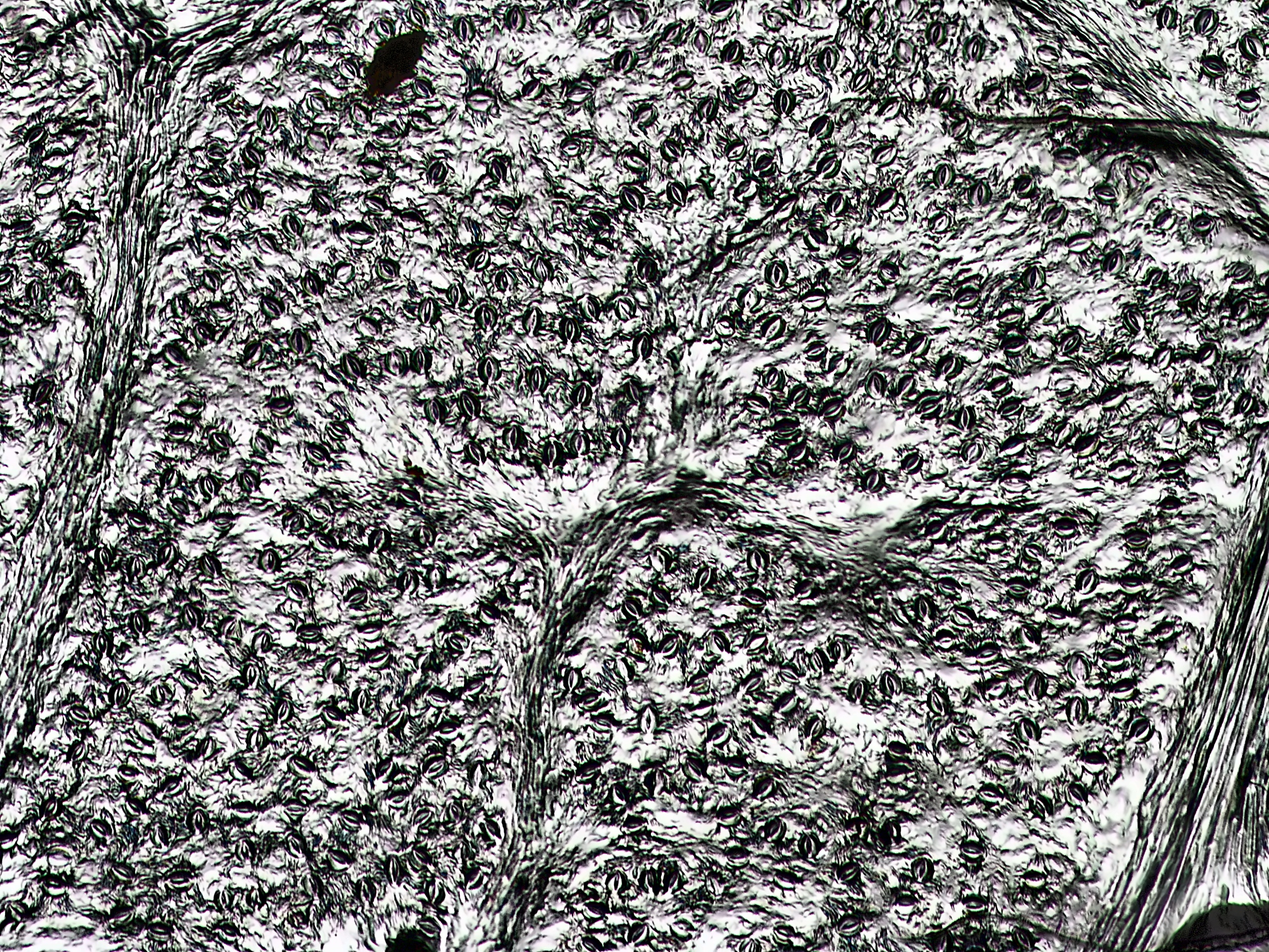stomata: (1067, 651, 1093, 683), (1024, 669, 1048, 701), (648, 543, 672, 575), (1125, 717, 1154, 742), (287, 754, 316, 779), (1106, 458, 1137, 481), (466, 760, 489, 791), (760, 315, 787, 341), (936, 354, 963, 380), (1238, 35, 1266, 60), (867, 318, 892, 346), (970, 509, 1000, 532), (771, 418, 801, 441), (626, 632, 651, 659), (474, 304, 498, 332), (477, 356, 501, 384), (765, 260, 789, 288), (424, 562, 447, 591), (301, 872, 324, 901), (466, 90, 496, 112), (418, 296, 440, 326), (963, 34, 985, 64), (355, 877, 377, 907), (999, 435, 1030, 456), (998, 473, 1029, 494), (619, 185, 644, 211), (816, 153, 842, 178), (1074, 568, 1099, 594), (424, 396, 448, 423), (1195, 9, 1219, 36), (879, 670, 903, 697), (384, 348, 407, 376), (1066, 696, 1089, 724), (643, 768, 666, 796), (1099, 387, 1128, 409), (835, 914, 864, 936), (1000, 333, 1029, 355), (637, 705, 658, 735), (874, 187, 899, 212), (185, 809, 210, 834), (133, 719, 158, 744), (1041, 204, 1067, 228), (774, 194, 798, 220), (736, 286, 762, 310), (669, 917, 695, 941), (399, 208, 426, 231), (304, 444, 331, 467), (541, 440, 564, 467), (1122, 307, 1145, 334), (1073, 434, 1100, 457), (911, 857, 934, 884), (927, 689, 950, 716), (715, 805, 742, 828), (1052, 421, 1075, 448), (423, 755, 450, 778), (319, 706, 346, 729), (289, 327, 311, 355), (1199, 56, 1227, 78), (1081, 752, 1109, 774), (865, 371, 886, 400), (166, 870, 195, 891), (342, 355, 366, 380), (1156, 413, 1181, 437), (1016, 718, 1040, 743), (367, 529, 392, 553), (39, 796, 63, 821), (238, 186, 264, 209), (302, 271, 325, 297), (666, 181, 689, 207), (579, 295, 602, 321), (1046, 606, 1072, 629), (322, 657, 345, 683), (531, 255, 553, 282), (636, 257, 658, 284), (458, 391, 480, 418), (916, 397, 943, 419), (835, 247, 862, 269), (800, 290, 827, 312), (954, 286, 981, 308), (182, 603, 203, 631), (774, 89, 795, 117), (739, 588, 767, 609), (424, 878, 445, 906), (633, 103, 657, 127), (624, 150, 648, 174), (873, 143, 897, 167), (877, 97, 902, 120), (809, 116, 834, 139), (925, 520, 950, 543), (798, 834, 821, 859), (877, 260, 900, 285), (1021, 266, 1046, 289), (906, 334, 931, 357), (820, 398, 845, 421), (656, 635, 681, 658), (410, 346, 432, 372), (156, 543, 178, 569), (925, 21, 947, 47), (1102, 249, 1124, 275), (954, 405, 976, 431), (802, 228, 828, 250), (577, 689, 603, 711), (310, 533, 340, 552), (346, 223, 373, 244), (569, 431, 590, 458), (610, 424, 631, 451), (1119, 574, 1146, 595), (1111, 679, 1138, 700), (977, 785, 1004, 806), (705, 871, 726, 898), (985, 376, 1012, 397), (398, 568, 419, 595), (385, 854, 402, 887), (566, 83, 594, 103), (1066, 233, 1094, 253), (146, 922, 174, 942), (256, 107, 279, 131), (306, 131, 330, 154), (494, 270, 518, 293), (190, 322, 213, 346), (892, 39, 915, 63), (969, 181, 992, 205), (1065, 784, 1088, 808), (1029, 795, 1053, 818), (754, 776, 777, 800), (682, 758, 706, 781), (826, 193, 850, 216), (327, 848, 351, 871), (1123, 530, 1152, 549), (454, 16, 476, 41), (356, 315, 381, 337), (200, 554, 222, 579), (984, 677, 1009, 699), (234, 837, 256, 862), (283, 39, 304, 65), (243, 341, 264, 367), (934, 163, 955, 189), (1020, 623, 1041, 649), (959, 841, 985, 862), (1013, 926, 1034, 952), (808, 649, 829, 675), (952, 724, 978, 745), (747, 548, 768, 574), (773, 869, 799, 890), (613, 655, 634, 681), (159, 775, 185, 796), (410, 111, 437, 131), (961, 896, 988, 916), (563, 665, 583, 692), (351, 686, 371, 713), (213, 923, 240, 943), (633, 332, 652, 360), (1157, 459, 1185, 478), (949, 606, 977, 625), (892, 894, 920, 913), (620, 816, 648, 835), (433, 720, 461, 739), (376, 258, 399, 281), (446, 284, 469, 307), (862, 7, 885, 30), (928, 211, 951, 234), (961, 441, 984, 464), (901, 452, 924, 475), (788, 384, 811, 407), (245, 728, 268, 751), (244, 887, 267, 910), (463, 440, 485, 464), (763, 9, 787, 31), (850, 69, 872, 93), (1237, 90, 1261, 112), (1054, 148, 1078, 170), (992, 753, 1016, 775), (726, 846, 750, 868), (724, 757, 748, 779), (833, 440, 857, 462), (708, 632, 730, 656), (605, 870, 627, 894), (413, 524, 435, 548), (171, 294, 192, 319), (92, 632, 113, 657), (623, 379, 644, 404), (1153, 209, 1178, 230), (1152, 622, 1177, 643), (1005, 578, 1030, 599), (694, 566, 715, 591), (507, 4, 525, 33), (1021, 542, 1047, 562), (523, 307, 542, 334), (199, 205, 226, 224), (260, 297, 283, 319), (659, 141, 682, 163), (614, 50, 636, 73), (862, 469, 884, 492), (745, 632, 768, 654), (43, 874, 66, 896), (521, 79, 545, 100), (334, 261, 355, 285), (615, 297, 636, 321), (806, 715, 827, 739), (765, 818, 786, 842), (706, 724, 730, 745), (745, 394, 769, 415), (177, 669, 201, 690), (586, 211, 611, 231), (326, 420, 351, 440), (397, 485, 422, 505), (976, 644, 1001, 664), (915, 595, 935, 620), (848, 678, 868, 703), (639, 868, 659, 893), (273, 698, 293, 723), (286, 833, 306, 858), (43, 150, 69, 169), (997, 397, 1023, 416), (366, 650, 392, 669), (426, 689, 452, 708), (464, 866, 483, 892), (283, 798, 309, 817), (527, 365, 545, 392), (296, 624, 323, 642), (151, 822, 169, 849), (468, 249, 490, 271), (650, 586, 672, 608), (250, 432, 273, 453), (934, 630, 957, 651), (687, 674, 710, 695), (628, 922, 649, 945), (150, 684, 173, 705), (195, 737, 216, 760), (230, 761, 253, 782), (66, 740, 87, 763), (360, 158, 384, 178), (282, 215, 302, 239), (592, 13, 612, 37), (199, 475, 219, 499), (260, 548, 280, 572), (1177, 285, 1201, 305), (804, 341, 828, 361), (750, 460, 774, 480), (623, 597, 643, 621), (207, 302, 235, 319), (265, 397, 293, 414), (32, 179, 57, 198), (560, 318, 579, 343), (243, 662, 262, 687), (573, 382, 592, 407), (1113, 614, 1138, 633), (357, 622, 382, 641), (390, 774, 415, 793), (233, 802, 258, 821), (692, 30, 710, 56), (936, 578, 962, 596), (144, 19, 166, 40), (242, 142, 263, 164), (502, 425, 523, 447), (734, 78, 756, 99), (755, 155, 776, 177), (932, 87, 953, 109), (1197, 345, 1218, 367), (1231, 298, 1252, 320), (1059, 332, 1080, 354), (829, 355, 851, 376), (487, 159, 507, 182), (818, 48, 838, 71), (764, 367, 784, 390), (609, 782, 629, 805), (478, 603, 501, 623), (418, 918, 441, 938), (998, 309, 1025, 326), (351, 102, 370, 126), (128, 555, 147, 579), (170, 497, 189, 521), (130, 611, 149, 635), (1067, 74, 1091, 93), (1191, 215, 1215, 234), (344, 586, 368, 605), (33, 380, 51, 405), (1237, 393, 1255, 418), (176, 400, 202, 417), (669, 73, 695, 90), (339, 59, 360, 80), (793, 579, 814, 600), (714, 315, 735, 336), (23, 125, 45, 145), (412, 77, 434, 97), (313, 191, 335, 211), (164, 345, 186, 365), (310, 502, 332, 522), (736, 180, 758, 200), (481, 818, 501, 840), (382, 709, 404, 729), (339, 810, 361, 830), (322, 26, 345, 45), (286, 582, 309, 601), (592, 238, 615, 257), (1157, 6, 1176, 29), (1171, 555, 1194, 574), (836, 862, 859, 881), (897, 375, 916, 398), (219, 615, 238, 638), (253, 631, 272, 654), (213, 887, 232, 910), (7, 900, 26, 923), (196, 177, 220, 195), (112, 682, 128, 709), (884, 766, 908, 784), (983, 536, 1007, 554), (664, 869, 682, 893), (1105, 354, 1130, 371), (209, 432, 230, 452), (238, 471, 259, 491), (698, 99, 718, 120), (725, 141, 746, 161), (1025, 74, 1046, 94), (1016, 176, 1036, 197), (1043, 854, 1064, 874), (776, 691, 797, 711), (787, 441, 807, 462), (111, 865, 132, 885), (376, 18, 395, 40), (428, 162, 447, 184), (256, 234, 278, 253), (207, 236, 229, 255), (94, 547, 113, 569), (12, 220, 35, 238), (1094, 184, 1117, 202), (888, 741, 911, 759), (375, 758, 393, 781), (11, 46, 35, 63), (1054, 519, 1078, 536), (47, 849, 71, 866), (202, 270, 222, 290), (1100, 648, 1125, 664), (779, 664, 799, 684), (589, 718, 614, 734), (407, 7, 426, 28), (561, 138, 582, 157), (284, 512, 303, 533), (663, 23, 682, 44), (1131, 162, 1152, 181), (448, 634, 469, 653), (125, 798, 146, 817), (1160, 495, 1182, 513), (774, 925, 796, 943), (583, 900, 605, 918), (412, 848, 434, 866), (27, 279, 44, 302), (1201, 418, 1224, 435), (949, 119, 969, 138), (1025, 870, 1045, 889), (983, 86, 1004, 104), (376, 127, 398, 144), (1037, 45, 1059, 62), (832, 639, 849, 661), (68, 707, 91, 723), (117, 764, 140, 780), (1149, 269, 1168, 288), (90, 820, 109, 839), (363, 197, 387, 212), (744, 674, 764, 692), (412, 809, 432, 827), (126, 511, 147, 528), (769, 46, 786, 67), (61, 275, 77, 297), (167, 423, 189, 439), (1155, 347, 1171, 369), (309, 95, 328, 113), (33, 241, 50, 261), (1233, 263, 1253, 280), (414, 651, 431, 671), (494, 202, 516, 217), (887, 821, 902, 843), (213, 87, 232, 104), (162, 469, 179, 488), (724, 41, 740, 61), (172, 715, 194, 729), (1054, 378, 1074, 393), (63, 213, 84, 227), (448, 801, 462, 822), (1192, 385, 1211, 400), (207, 147, 226, 160)
